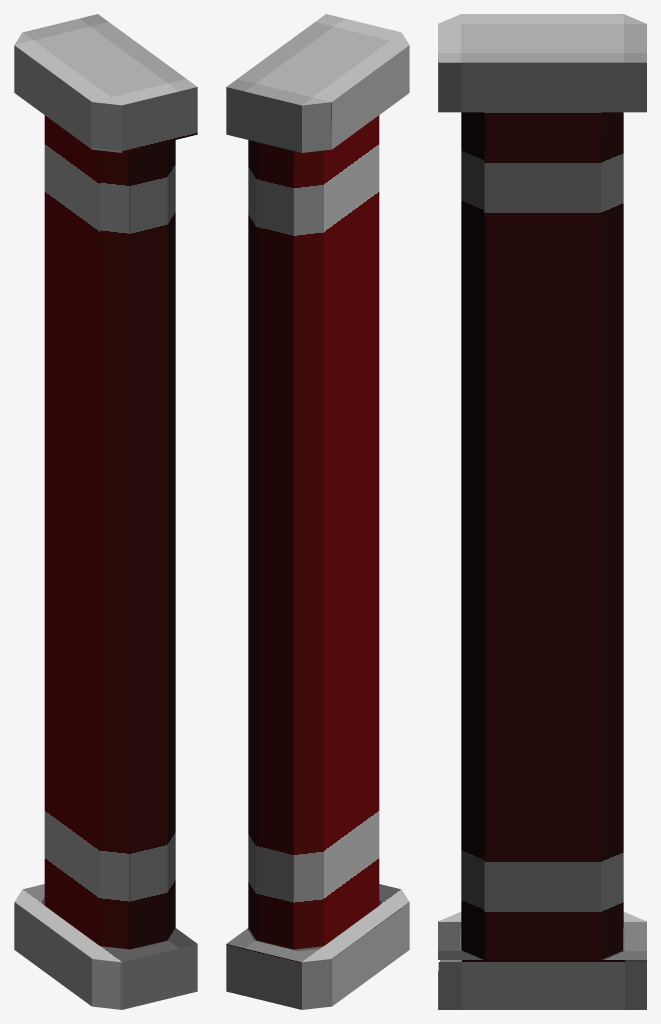
The model's file is pillar_913x03.obj.
3 renders of one model, left to right at view 1: azimuth 30°, elevation 25°; view 2: azimuth 150°, elevation 25°; view 3: azimuth 270°, elevation 25°, orthographic. The views are drawn at different scales.
Visible parts, largest first — view 1: Pillar; view 2: Pillar; view 3: Pillar.
Part boxes in pixels (box(x1,y1,x2,y2)): Pillar: box(14, 14, 197, 1009); Pillar: box(226, 14, 409, 1009); Pillar: box(438, 14, 646, 1009).
Size of the model in its own units: 0.5556 by 5.07 by 1.01.
